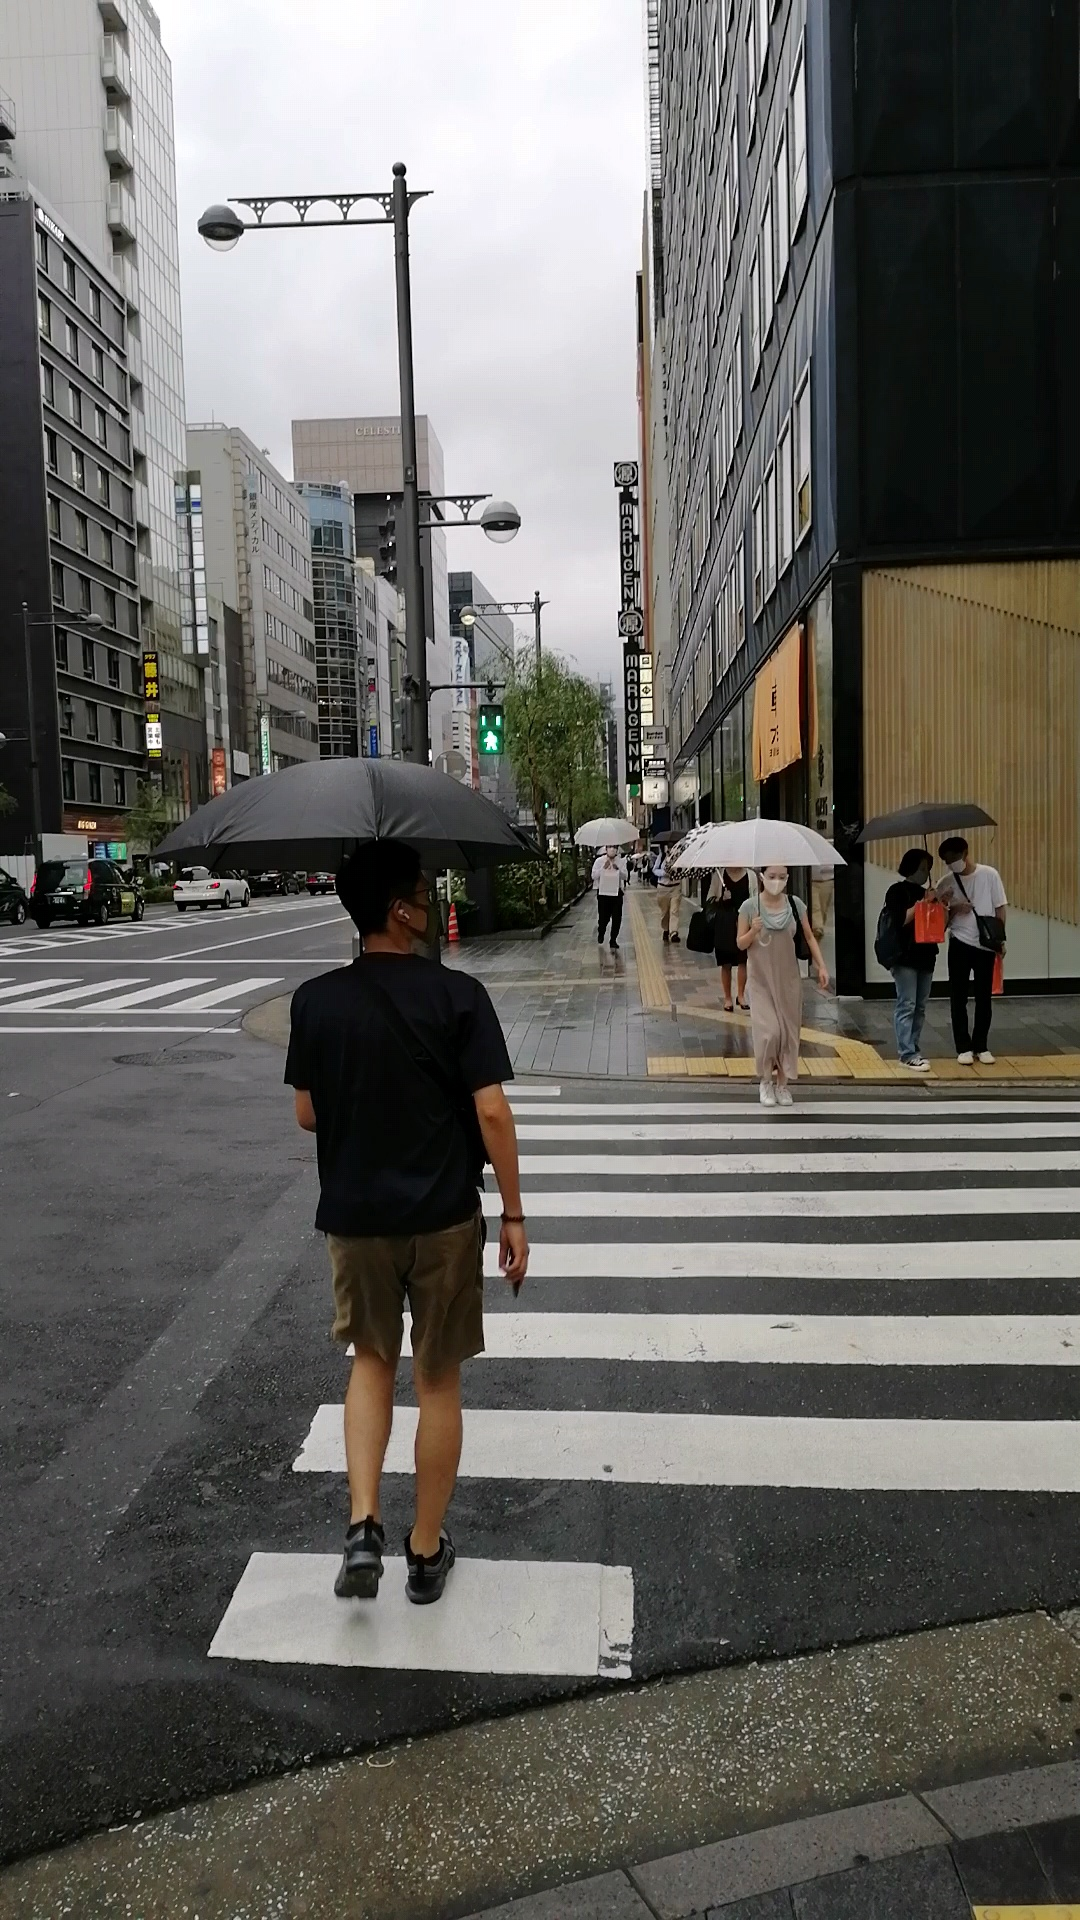green: (477, 703, 504, 756)
